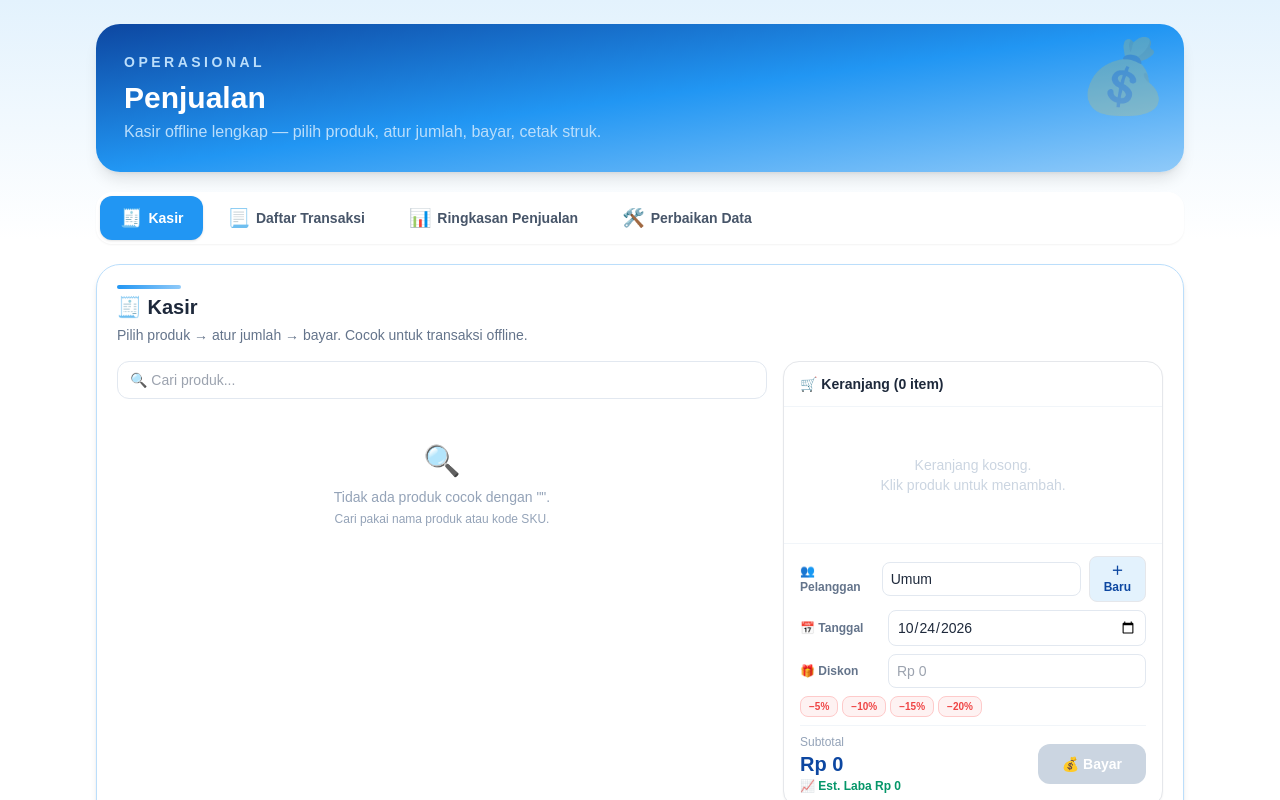
Scenario: PenjualanPage › switches to Ringkasan Penjualan tab
Click the tab "📊 Ringkasan Penjualan": (494,218) [389, 196, 598, 240]
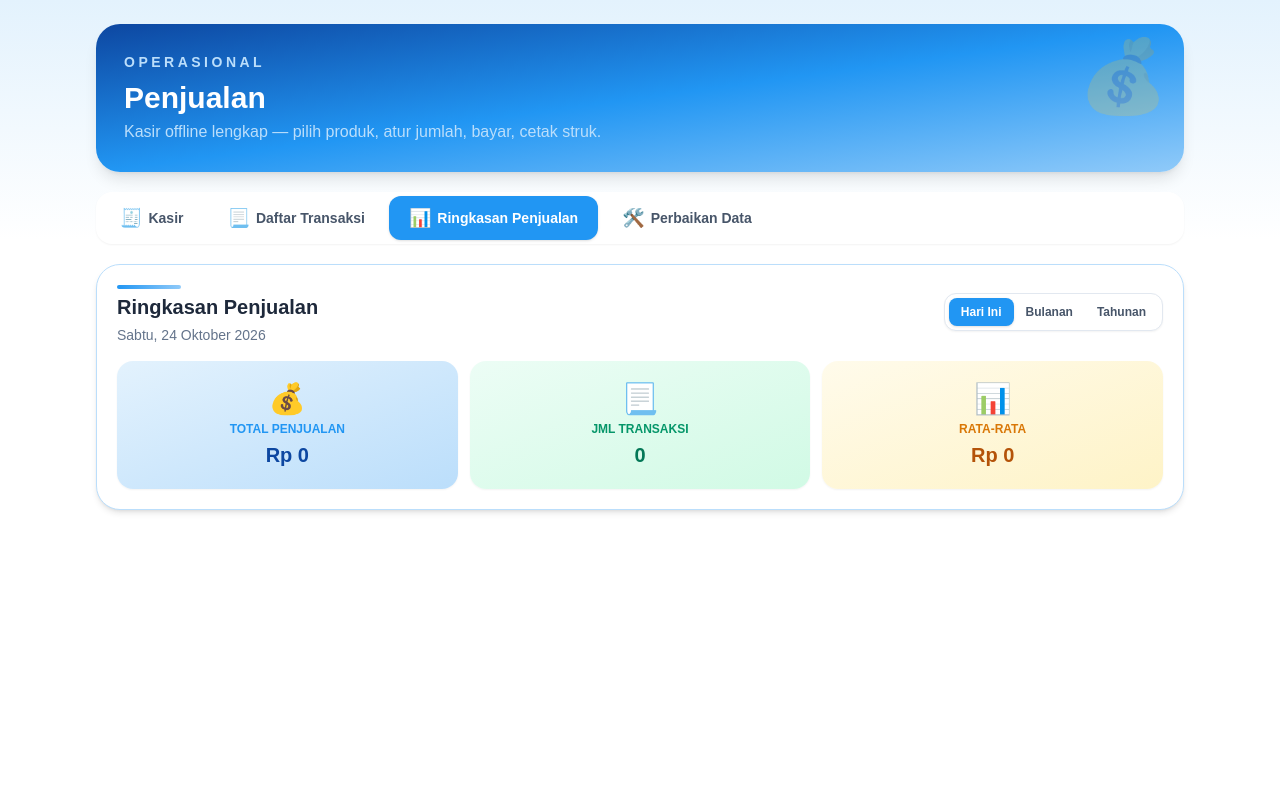
Check: the text "Total Penjualan" is shown, box [230, 422, 345, 436]
Check: the text "Jml Transaksi" is shown, box [591, 422, 688, 436]
Check: the text "Rata-Rata" is shown, box [959, 422, 1026, 436]
